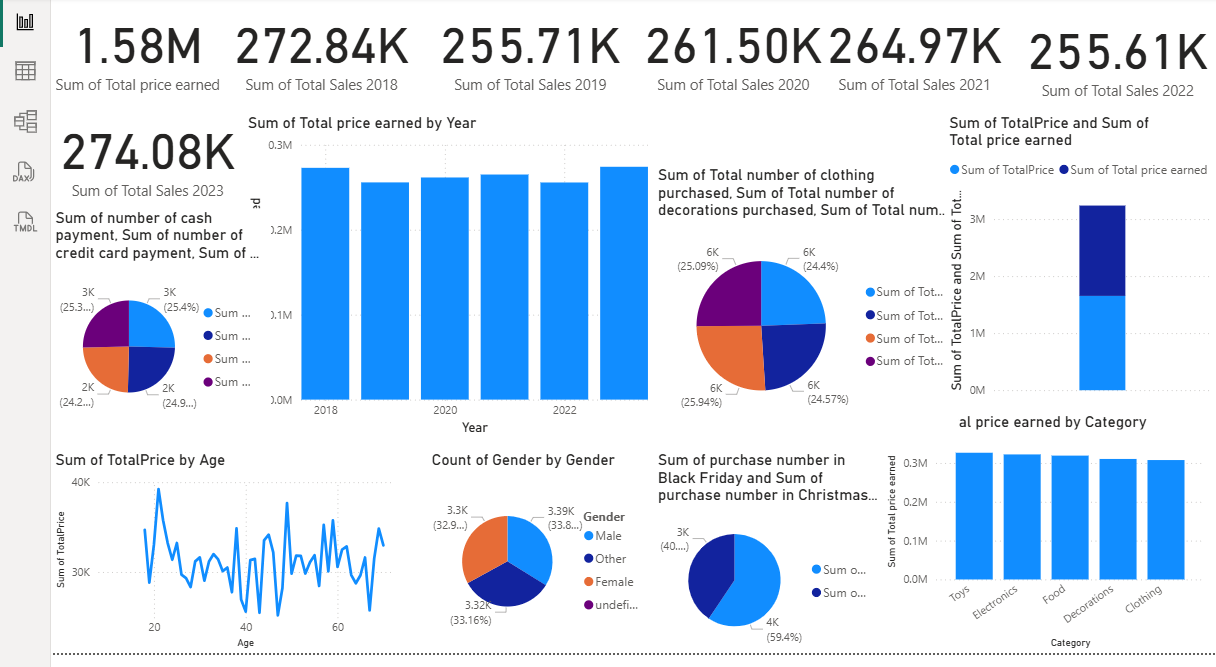

This screenshot's page, from the dashboard's own definition file:
{"tool":"powerbi","page":{"name":"Page 1","canvas":[1280,720],"ordinal":0},"visuals":[{"type":"pieChart","fields":{"Category":["Onyx Data -DataDNA Dataset Challenge - Christmas Sales and Trends - December (2).Gender"],"Y":["CountNonNull(Onyx Data -DataDNA Dataset Challenge - Christmas Sales and Trends - December (2).Gender)"]},"box":[413,498.1,248.4,222.3],"z":0},{"type":"lineChart","fields":{"Category":["Onyx Data -DataDNA Dataset Challenge - Christmas Sales and Trends - December (2).Age"],"Y":["Sum(Onyx Data -DataDNA Dataset Challenge - Christmas Sales and Trends - December (2).TotalPrice)"]},"box":[0,498.1,380.1,222.3],"z":1000},{"type":"card","fields":{"Values":["Sum(Onyx Data -DataDNA Dataset Challenge - Christmas Sales and Trends - December (2).Total price earned)"]},"box":[0,0,190.7,115.3],"z":2000},{"type":"columnChart","fields":{"Category":["Onyx Data -DataDNA Dataset Challenge - Christmas Sales and Trends - December (2).Date.Variation.Date Hierarchy.Year"],"Y":["Sum(Onyx Data -DataDNA Dataset Challenge - Christmas Sales and Trends - December (2).Total price earned)"]},"box":[212,127.9,449.2,358.4],"z":3000},{"type":"card","fields":{"Values":["Sum(Onyx Data -DataDNA Dataset Challenge - Christmas Sales and Trends - December (2).Total Sales 2018)"]},"box":[190.7,0,212.7,115.3],"z":4000},{"type":"card","fields":{"Values":["Sum(Onyx Data -DataDNA Dataset Challenge - Christmas Sales and Trends - December (2).Total Sales 2019)"]},"box":[413,0,226.4,115.3],"z":5000},{"type":"card","fields":{"Values":["Sum(Onyx Data -DataDNA Dataset Challenge - Christmas Sales and Trends - December (2).Total Sales 2020)"]},"box":[639.5,0,219.6,115.3],"z":6000},{"type":"card","fields":{"Values":["Sum(Onyx Data -DataDNA Dataset Challenge - Christmas Sales and Trends - December (2).Total Sales 2021)"]},"box":[846.7,0,203.1,115.3],"z":7000},{"type":"card","fields":{"Values":["Sum(Onyx Data -DataDNA Dataset Challenge - Christmas Sales and Trends - December (2).Total Sales 2022)"]},"box":[1062.1,0,218.2,127.6],"z":8000},{"type":"card","fields":{"Values":["Sum(Onyx Data -DataDNA Dataset Challenge - Christmas Sales and Trends - December (2).Total Sales 2023)"]},"box":[0,115.3,212.7,116.6],"z":9000},{"type":"pieChart","fields":{"Y":["Sum(Onyx Data -DataDNA Dataset Challenge - Christmas Sales and Trends - December (2).number of cash payment)","Sum(Onyx Data -DataDNA Dataset Challenge - Christmas Sales and Trends - December (2).number of credit  card payment)","Sum(Onyx Data -DataDNA Dataset Challenge - Christmas Sales and Trends - December (2).number of debit card payment)","Sum(Onyx Data -DataDNA Dataset Challenge - Christmas Sales and Trends - December (2).number of online payment)"]},"box":[0,231.9,241.5,241.5],"z":10000},{"type":"pieChart","fields":{"Y":["Sum(Onyx Data -DataDNA Dataset Challenge - Christmas Sales and Trends - December (2).purchase number in Black Friday)","Sum(Onyx Data -DataDNA Dataset Challenge - Christmas Sales and Trends - December (2).purchase number in Christmas Market"]},"box":[661.4,498.1,251.1,222.3],"z":11000},{"type":"columnChart","fields":{"Y":["Sum(Onyx Data -DataDNA Dataset Challenge - Christmas Sales and Trends - December (2).Total price earned)"],"Category":["Onyx Data -DataDNA Dataset Challenge - Christmas Sales and Trends - December (2).Category"]},"box":[912.5,455.6,359.5,264.8],"z":12000},{"type":"pieChart","fields":{"Y":["Sum(Onyx Data -DataDNA Dataset Challenge - Christmas Sales and Trends - December (2).Total number of clothing purchased)","Sum(Onyx Data -DataDNA Dataset Challenge - Christmas Sales and Trends - December (2).Total number of decorations purchas","Sum(Onyx Data -DataDNA Dataset Challenge - Christmas Sales and Trends - December (2).Total number of electronics purchas","Sum(Onyx Data -DataDNA Dataset Challenge - Christmas Sales and Trends - December (2).Total number of food purchased)"]},"box":[661.2,185.1,334.8,289.4],"z":12001},{"type":"columnChart","fields":{"Y":["Sum(Onyx Data -DataDNA Dataset Challenge - Christmas Sales and Trends - December (2).TotalPrice)","Sum(Onyx Data -DataDNA Dataset Challenge - Christmas Sales and Trends - December (2).Total price earned)"]},"box":[980.9,127.9,299.5,318],"z":12002}]}

Visuals, with their boxes on the page's 1280x720 design canvas (x1, y1, x2, y2). These are canvas units, not pixel positions in the 1216x667 screenshot, which may show the page scaled, cropped or inside an application window:
pieChart - Onyx Data -DataDNA Dataset Challenge - Christmas Sales and Trends - December (2).Gender x CountNonNull(Onyx Data -DataDNA Dataset Challenge - Christmas Sales and Trends - December (2).Gender): (413, 498, 661, 720)
lineChart - Onyx Data -DataDNA Dataset Challenge - Christmas Sales and Trends - December (2).Age x Sum(Onyx Data -DataDNA Dataset Challenge - Christmas Sales and Trends - December (2).TotalPrice): (0, 498, 380, 720)
card - Sum(Onyx Data -DataDNA Dataset Challenge - Christmas Sales and Trends - December (2).Total price earned): (0, 0, 191, 115)
columnChart - Onyx Data -DataDNA Dataset Challenge - Christmas Sales and Trends - December (2).Date.Variation.Date Hierarchy.Year x Sum(Onyx Data -DataDNA Dataset Challenge - Christmas Sales and Trends - December (2).Total price earned): (212, 128, 661, 486)
card - Sum(Onyx Data -DataDNA Dataset Challenge - Christmas Sales and Trends - December (2).Total Sales 2018): (191, 0, 403, 115)
card - Sum(Onyx Data -DataDNA Dataset Challenge - Christmas Sales and Trends - December (2).Total Sales 2019): (413, 0, 639, 115)
card - Sum(Onyx Data -DataDNA Dataset Challenge - Christmas Sales and Trends - December (2).Total Sales 2020): (640, 0, 859, 115)
card - Sum(Onyx Data -DataDNA Dataset Challenge - Christmas Sales and Trends - December (2).Total Sales 2021): (847, 0, 1050, 115)
card - Sum(Onyx Data -DataDNA Dataset Challenge - Christmas Sales and Trends - December (2).Total Sales 2022): (1062, 0, 1280, 128)
card - Sum(Onyx Data -DataDNA Dataset Challenge - Christmas Sales and Trends - December (2).Total Sales 2023): (0, 115, 213, 232)
pieChart - Sum(Onyx Data -DataDNA Dataset Challenge - Christmas Sales and Trends - December (2).number of cash payment) x Sum(Onyx Data -DataDNA Dataset Challenge - Christmas Sales and Trends - December (2).number of credit  card payment): (0, 232, 242, 473)
pieChart - Sum(Onyx Data -DataDNA Dataset Challenge - Christmas Sales and Trends - December (2).purchase number in Black Friday) x Sum(Onyx Data -DataDNA Dataset Challenge - Christmas Sales and Trends - December (2).purchase number in Christmas Market: (661, 498, 912, 720)
columnChart - Sum(Onyx Data -DataDNA Dataset Challenge - Christmas Sales and Trends - December (2).Total price earned) x Onyx Data -DataDNA Dataset Challenge - Christmas Sales and Trends - December (2).Category: (912, 456, 1272, 720)
pieChart - Sum(Onyx Data -DataDNA Dataset Challenge - Christmas Sales and Trends - December (2).Total number of clothing purchased) x Sum(Onyx Data -DataDNA Dataset Challenge - Christmas Sales and Trends - December (2).Total number of decorations purchas: (661, 185, 996, 474)
columnChart - Sum(Onyx Data -DataDNA Dataset Challenge - Christmas Sales and Trends - December (2).TotalPrice) x Sum(Onyx Data -DataDNA Dataset Challenge - Christmas Sales and Trends - December (2).Total price earned): (981, 128, 1280, 446)
